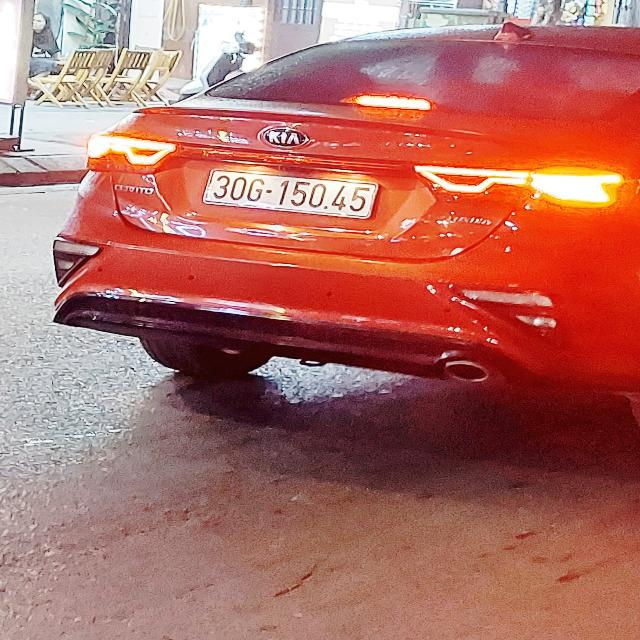license_plate: (199, 169, 382, 223)
